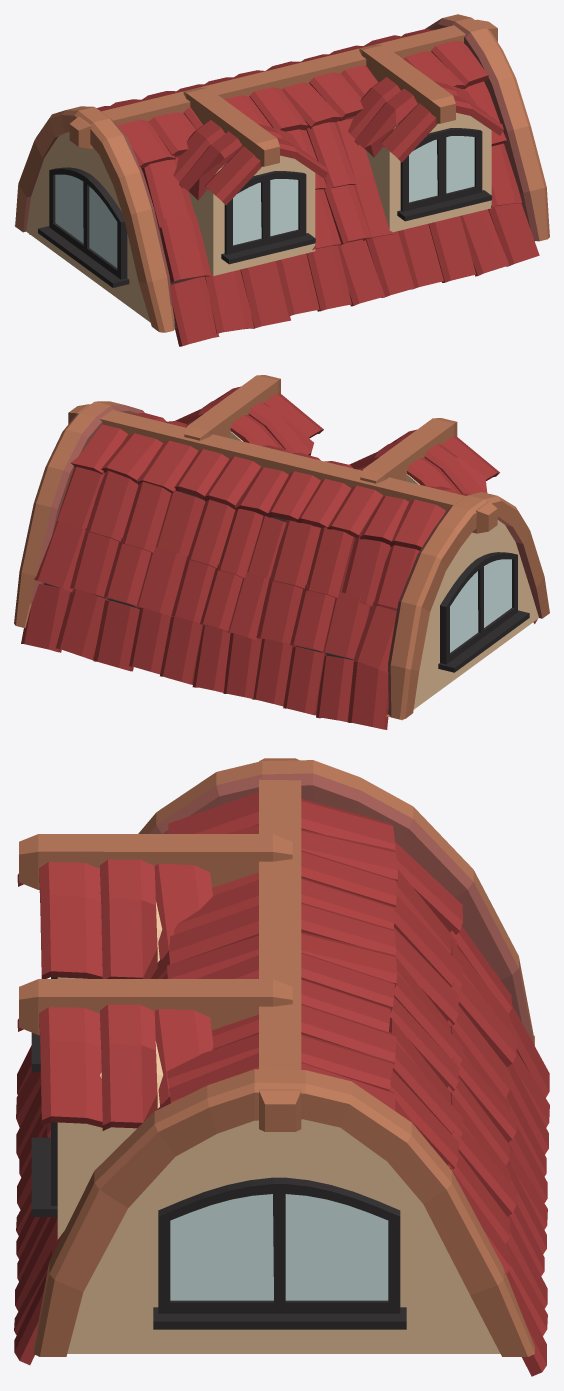
File: Testhouse_Roof.fbx
3 views of the same model, one above another, from view 1: azimuth 30°, elevation 25°; view 2: azimuth 150°, elevation 25°; view 3: azimuth 270°, elevation 25° (orthographic). The views are drawn at different scales.
Visible parts, largest first — view 1: Testhouse_Roof; view 2: Testhouse_Roof; view 3: Testhouse_Roof.
Part boxes in pixels (left/top/right/bottom): Testhouse_Roof: left=14, top=14, right=549, bottom=346; Testhouse_Roof: left=14, top=375, right=549, bottom=729; Testhouse_Roof: left=14, top=758, right=549, bottom=1376.
Size of the model in its own units: 219 by 143 by 91.71.
